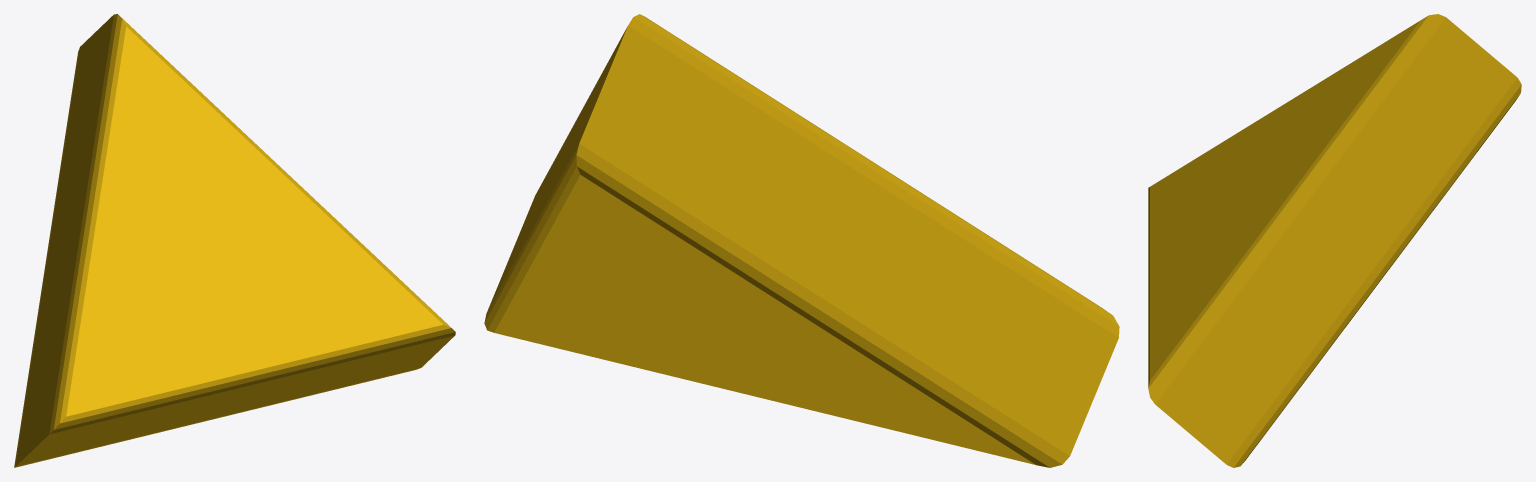
Rendered from triangle.glb.
3 views of the same model, side by side, from view 1: azimuth 30°, elevation 25°; view 2: azimuth 150°, elevation 25°; view 3: azimuth 270°, elevation 25° (orthographic). The views are drawn at different scales.
Size of the model in its own units: 1.21 by 0.9547 by 0.9178.
